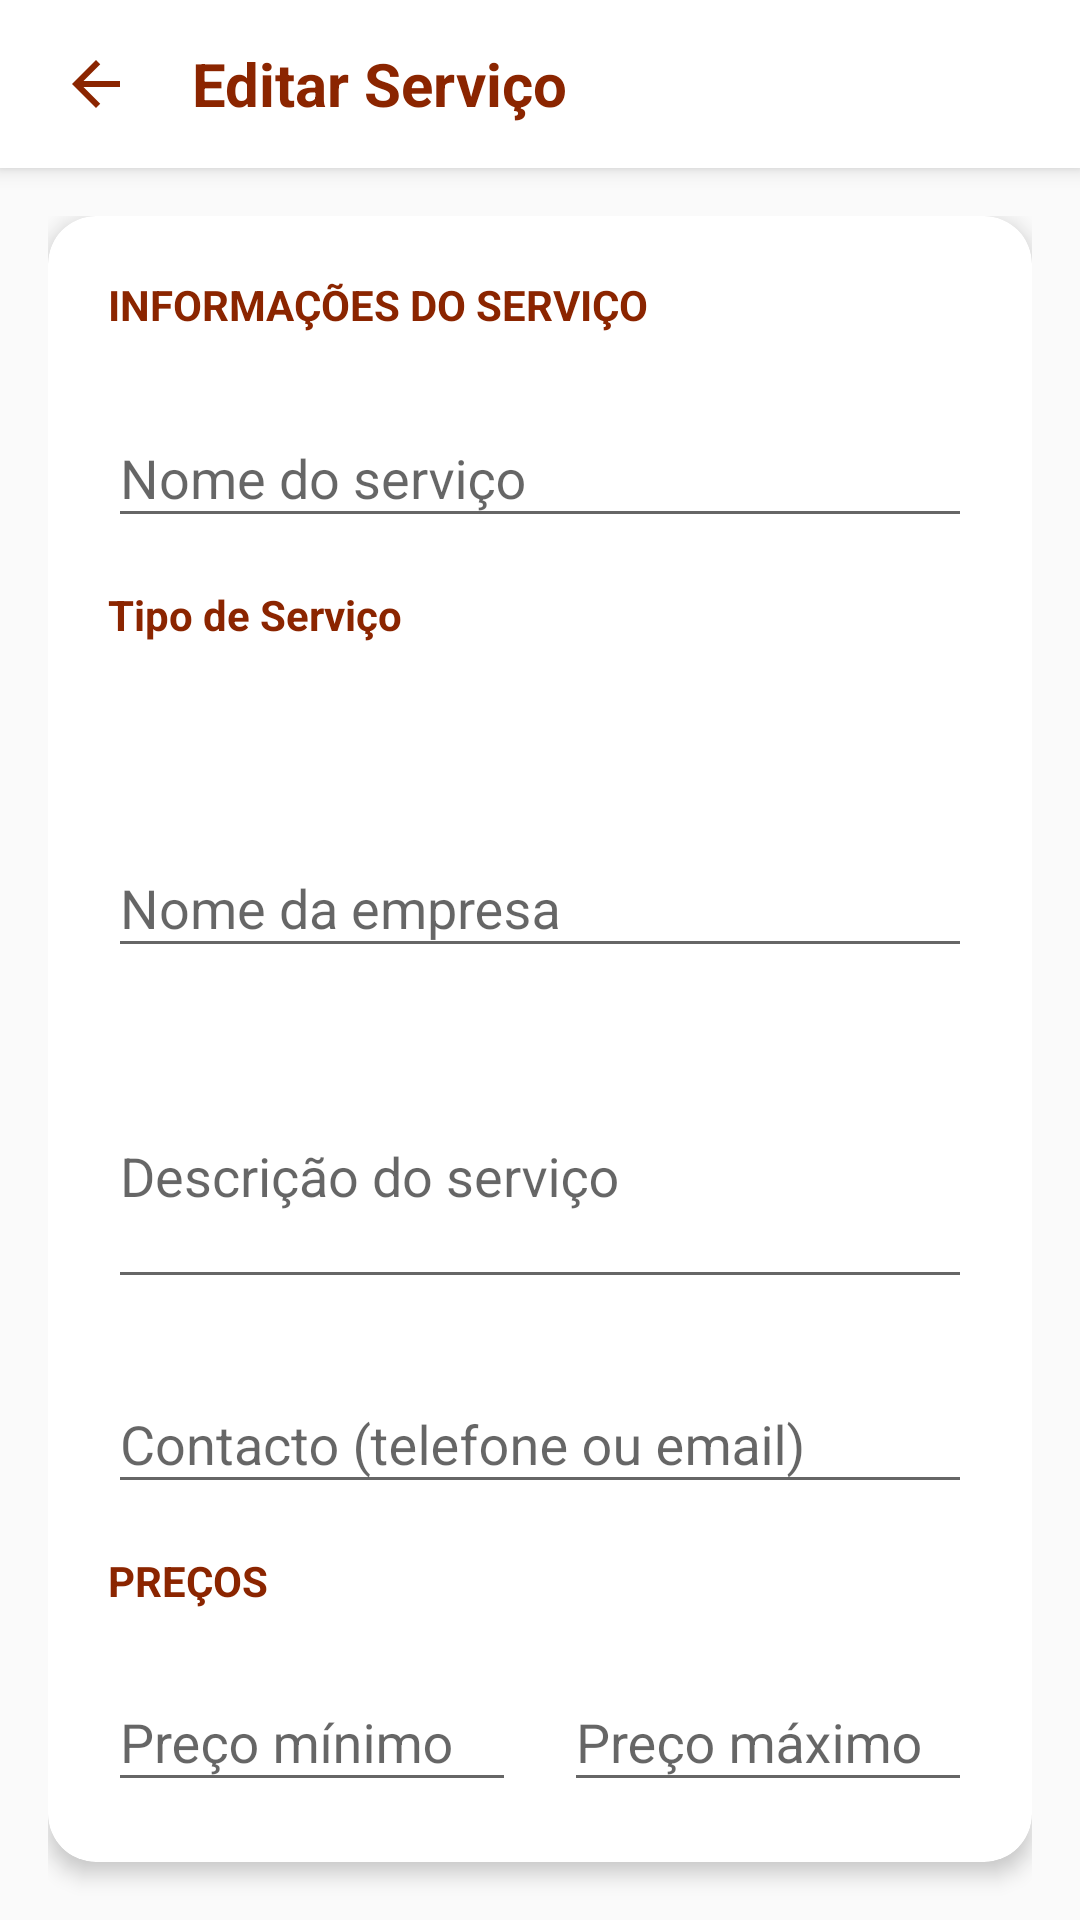

Where to tap for icons on this 1080*1920 app screen, as point (x, y):
Voltar: point (96, 84)
